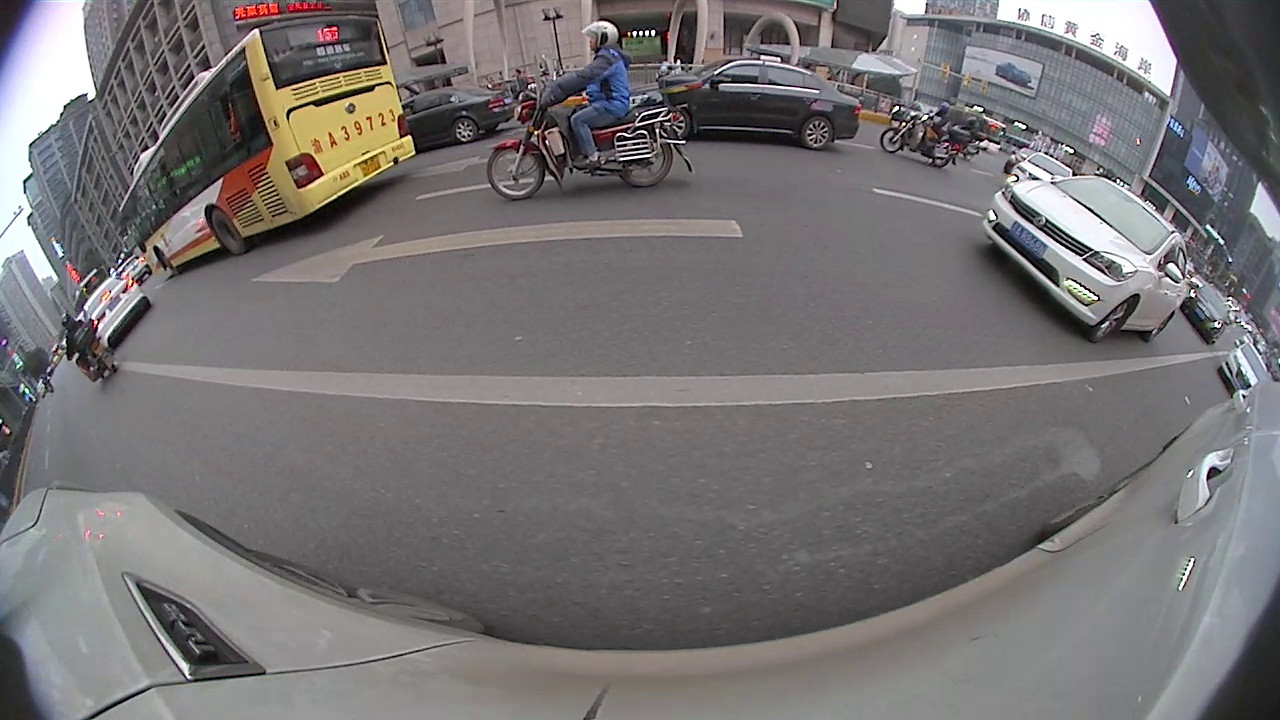car: (119, 20, 423, 278), (987, 170, 1194, 347), (633, 57, 857, 151), (394, 84, 514, 151), (80, 267, 146, 346), (1179, 280, 1236, 343), (1219, 341, 1268, 401)
front: (485, 142, 547, 203), (1090, 295, 1134, 347), (879, 125, 907, 156)
rear: (620, 144, 674, 189), (208, 204, 248, 258), (800, 115, 833, 152), (449, 118, 477, 146), (929, 153, 952, 169)
rider: (488, 21, 682, 202), (878, 98, 972, 173), (56, 313, 119, 386)
